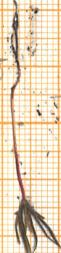flower: (8, 198, 60, 253)
root: (4, 2, 26, 123)
stem: (8, 121, 26, 199)
